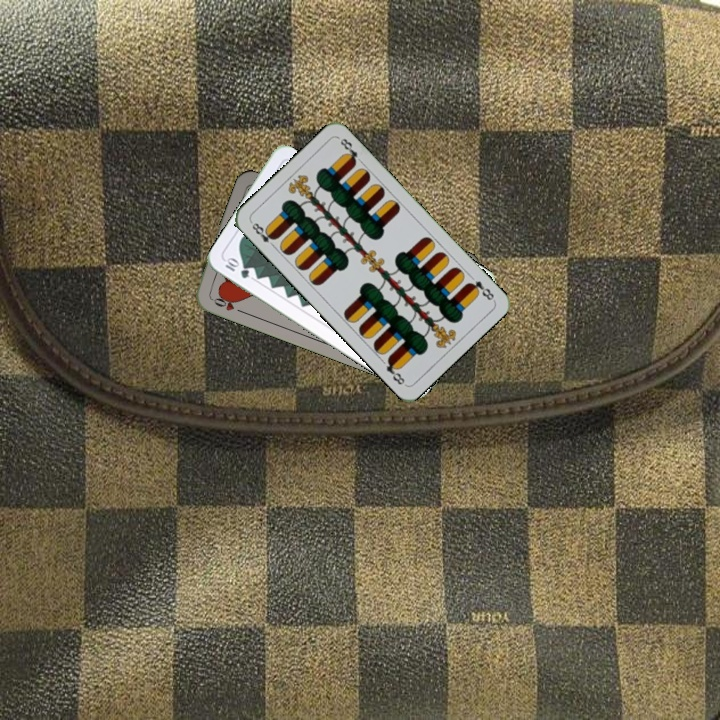E8: (246, 218, 279, 251), (463, 277, 497, 303)
G10: (221, 254, 252, 281)
HO: (207, 291, 246, 315)
